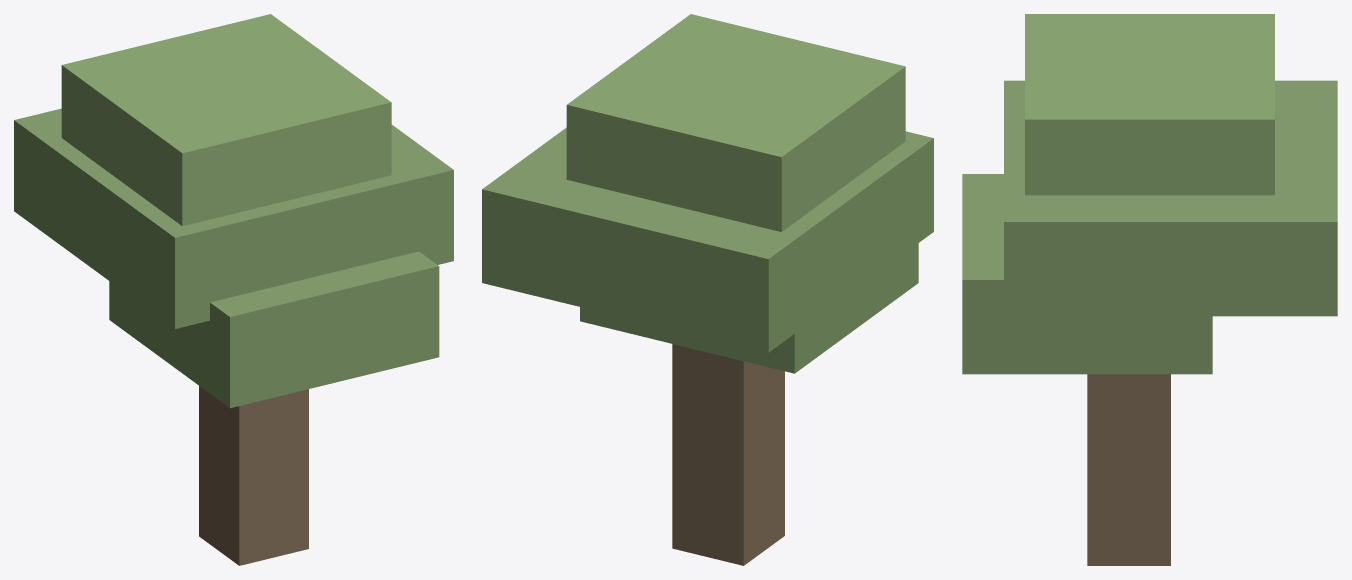
The model's file is chopo_02.glb.
3 renders of one model, left to right at view 1: azimuth 30°, elevation 25°; view 2: azimuth 150°, elevation 25°; view 3: azimuth 270°, elevation 25°, orthographic. The views are drawn at different scales.
Parts seen in each view (by area): view 1: chopo_02; view 2: chopo_02; view 3: chopo_02.
Boxes of the visible parts, left/top/right/bottom form: chopo_02: left=14, top=14, right=453, bottom=565; chopo_02: left=482, top=14, right=933, bottom=565; chopo_02: left=962, top=14, right=1337, bottom=565.
Size of the model in its own units: 1.6 by 2.5 by 1.8.
